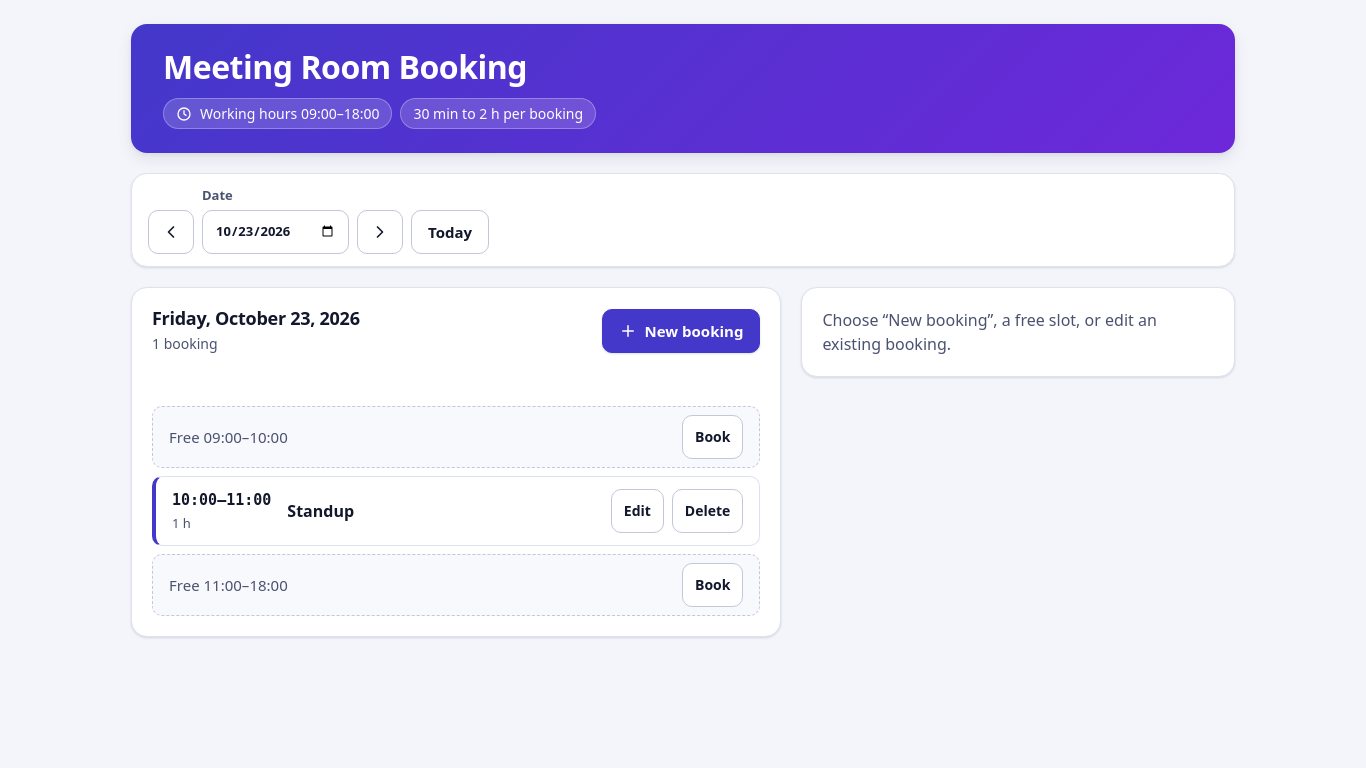
Test: editing › does not conflict with itself and saves
Click the button with aria-label "Edit booking 10:00–11:00" at (637,512), box [611, 490, 664, 534]
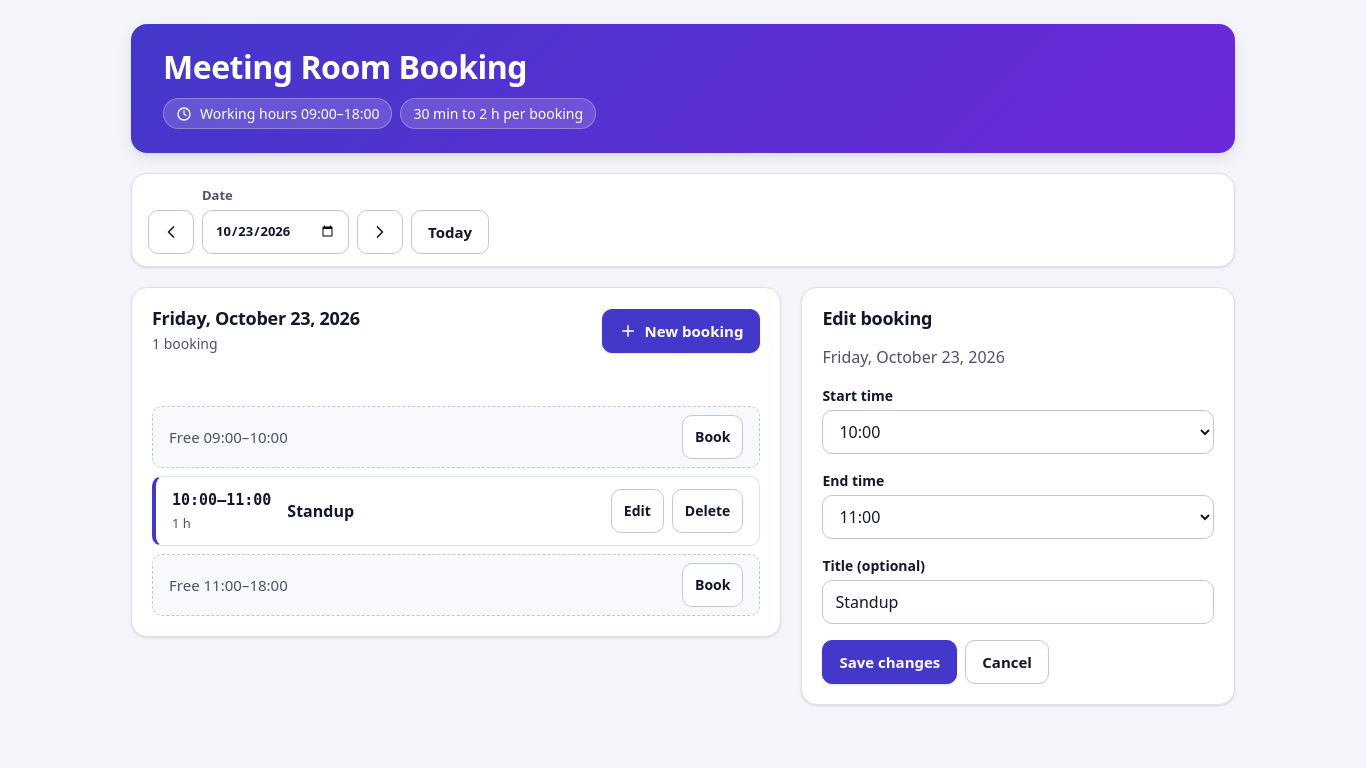
Expected: the heading "Edit booking" is shown, [822, 306, 932, 330]
Expected: the dropdown labelled "Start time" shows "10:00", [822, 410, 1214, 454]
Select "11:30" in the dropdown labelled "End time" at (1018,518), box [822, 496, 1214, 540]
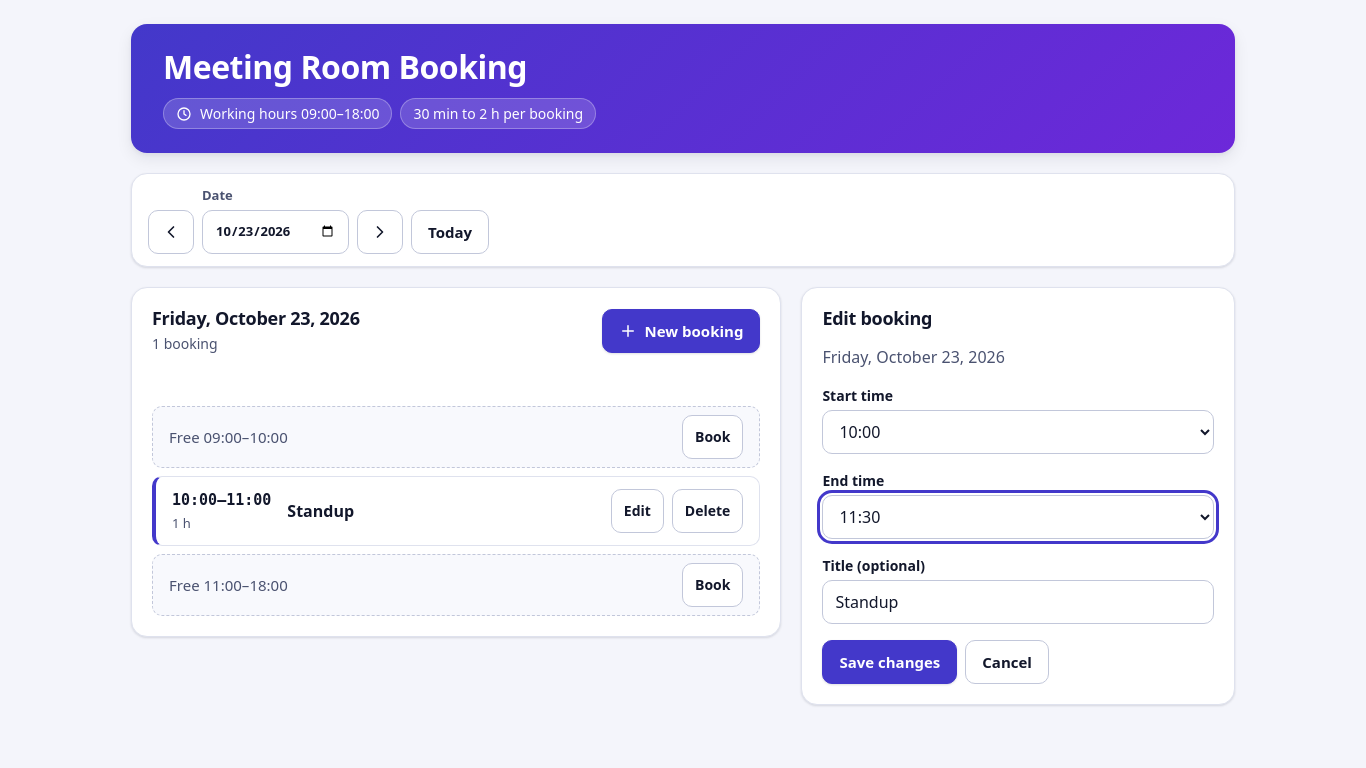
Click the button "Save changes" at (890,662), box [822, 640, 957, 684]
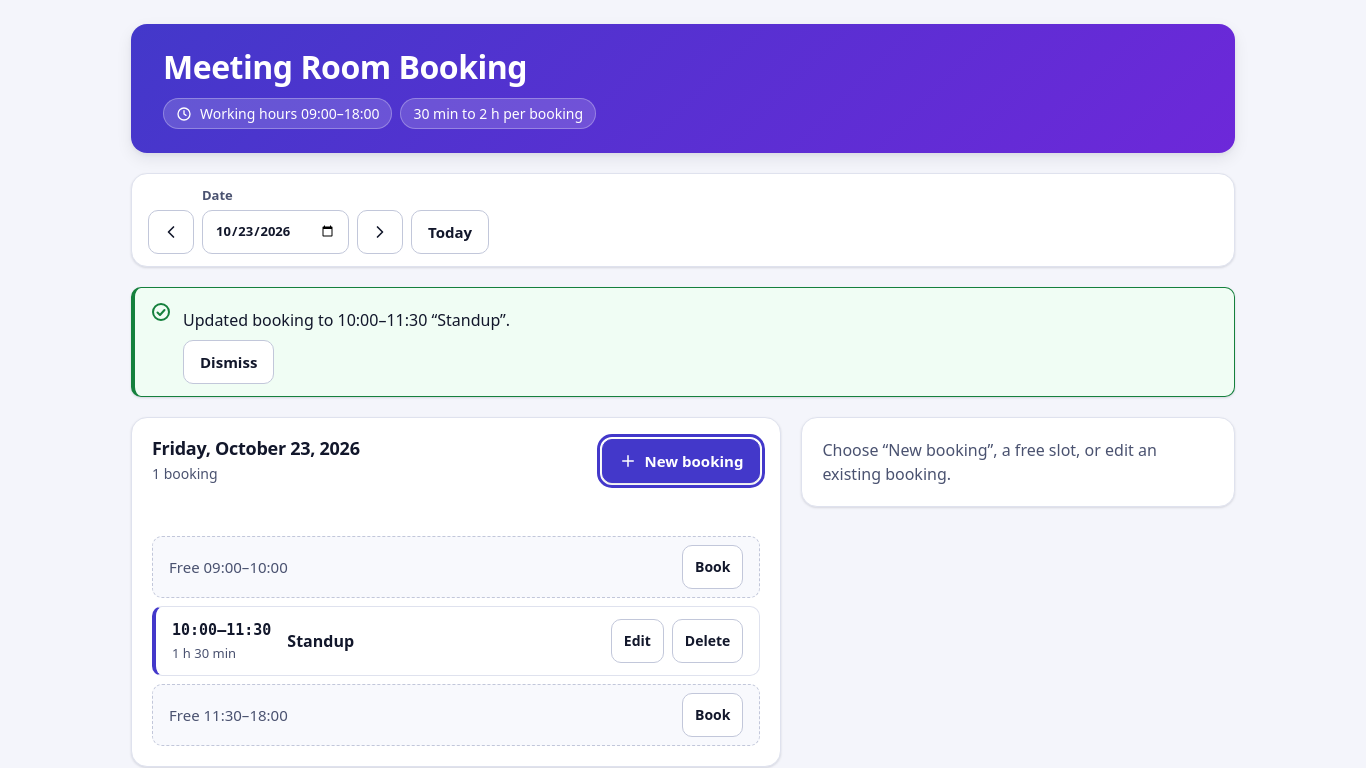
Expected: the text "Updated booking to 10:00–11:30 “Standup”." is shown, [183, 309, 510, 331]
